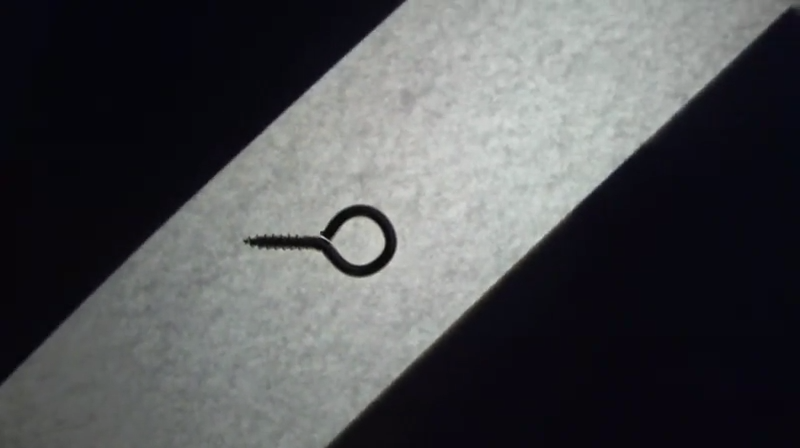O001: (238, 203, 402, 278)
